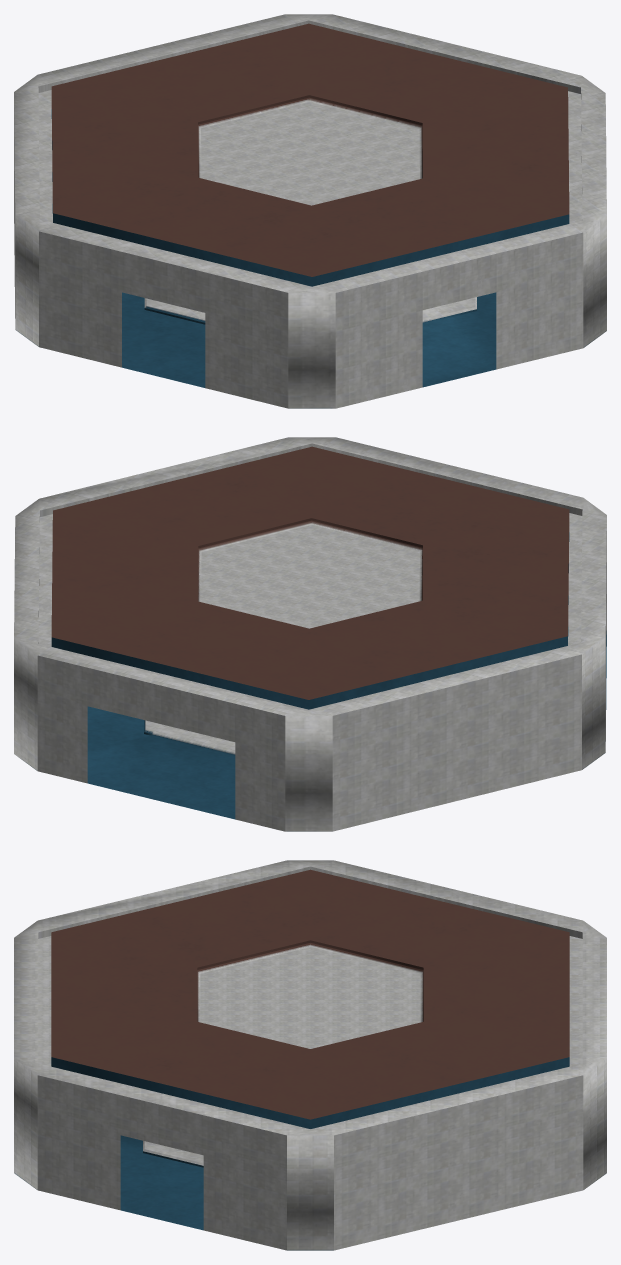
File: lobby.fbx
The picture shows the model from 3 angles, top to bottom: view 1: azimuth 30°, elevation 25°; view 2: azimuth 150°, elevation 25°; view 3: azimuth 270°, elevation 25°; orthographic projection.
Visible parts, largest first — view 1: bake; view 2: bake; view 3: bake.
Part boxes in pixels (x1,y1,x2,y2): bake: (14,14,606,408); bake: (14,437,606,831); bake: (14,860,606,1250).
Size of the model in its own units: 983 by 197 by 896.
Materials: 1 (1 with a texture image).
